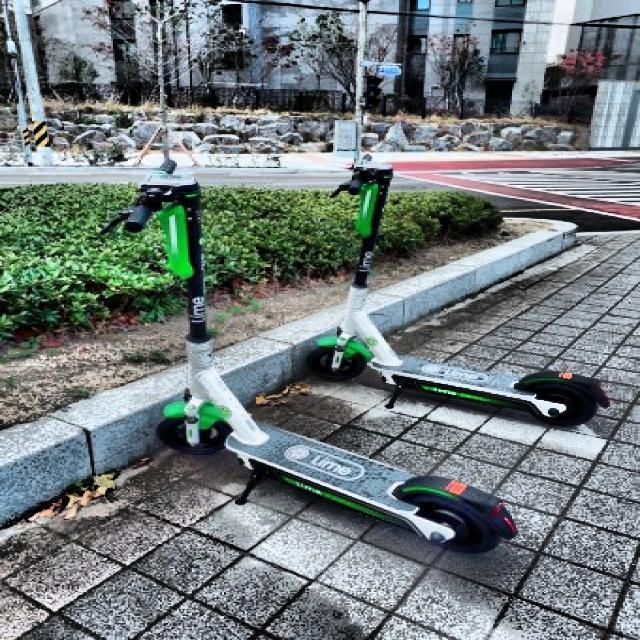bike: (305, 159, 609, 428)
traffic light: (365, 76, 383, 109)
